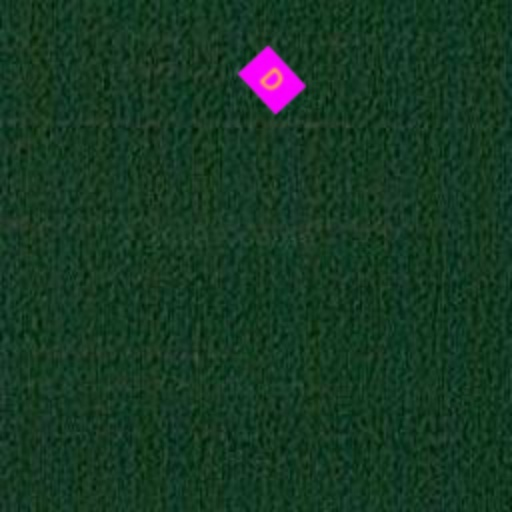rectangle: (232, 40, 312, 120)
